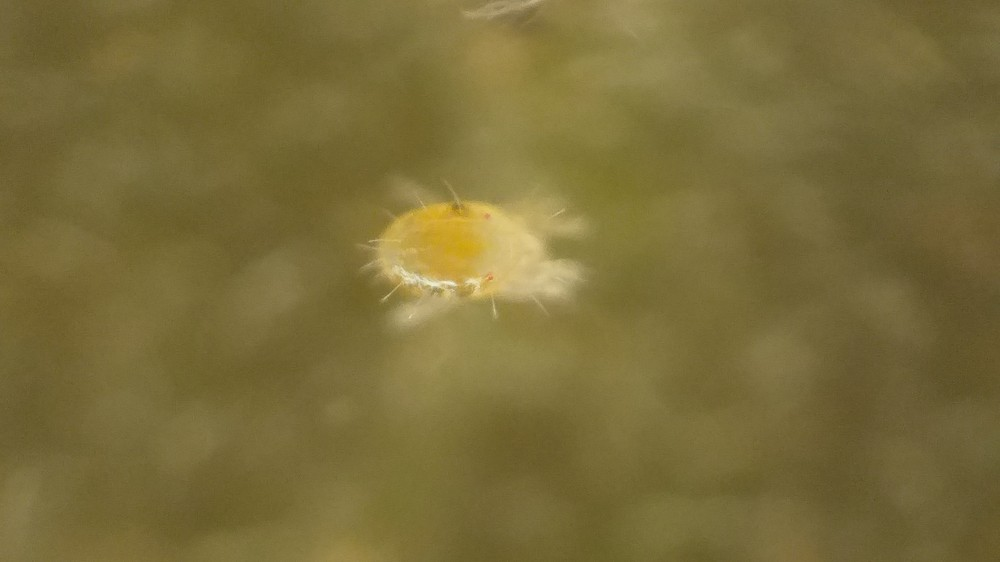Aracnido Rojo: (347, 161, 614, 346)
